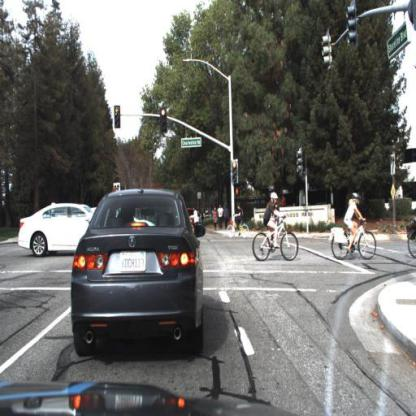biker: (330, 187, 377, 263), (252, 193, 302, 263), (227, 204, 250, 242)
car: (70, 187, 207, 359), (18, 200, 99, 260)
pedestrian: (71, 211, 80, 242), (219, 203, 224, 229), (214, 207, 219, 232)
trafficLight-Red: (159, 105, 167, 135), (231, 158, 240, 184)
trafficLight-RedLeft: (114, 103, 122, 129)
